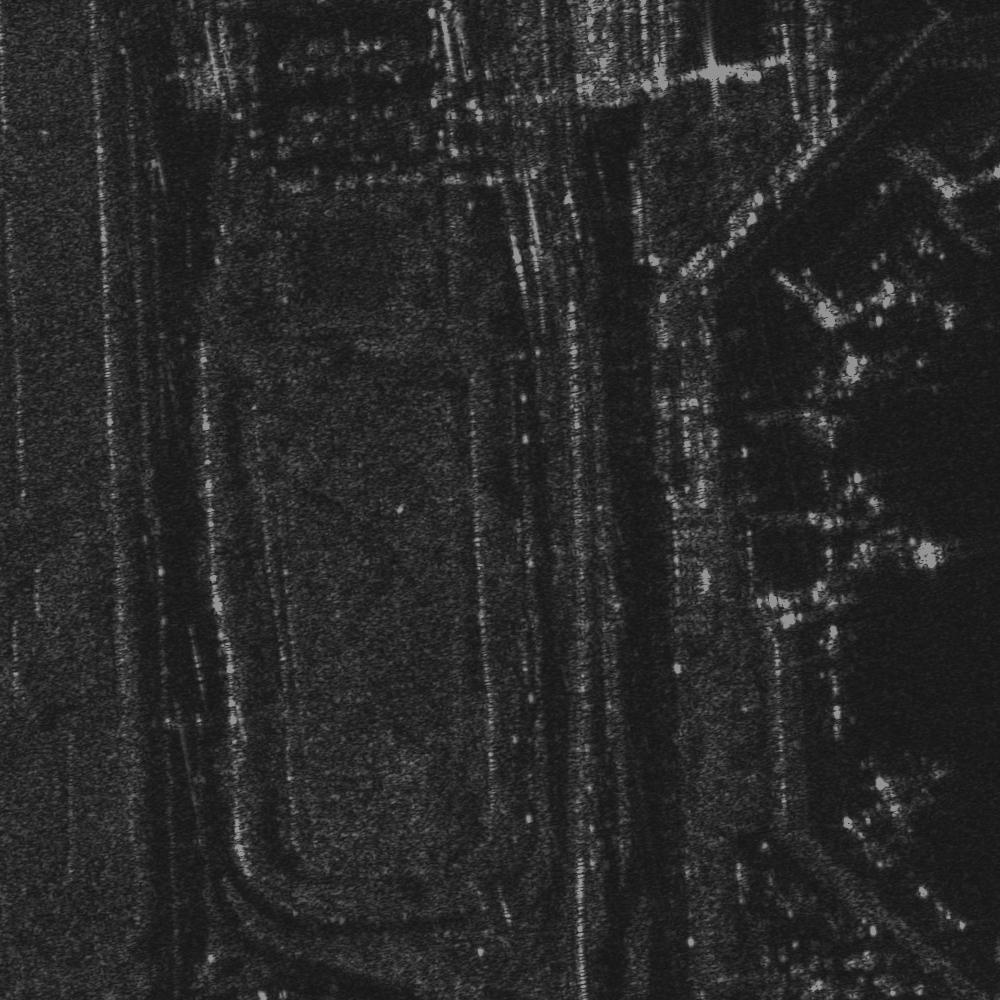A220: (861, 761, 951, 835)
